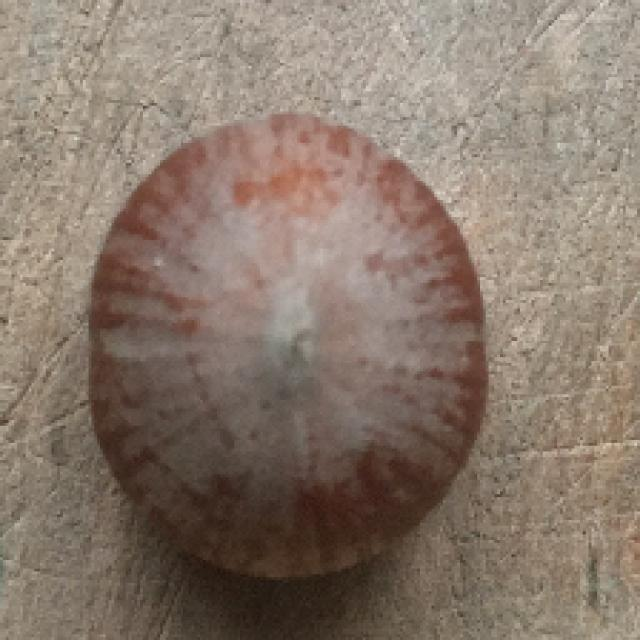qualityHazelnut: (92, 110, 486, 586)
